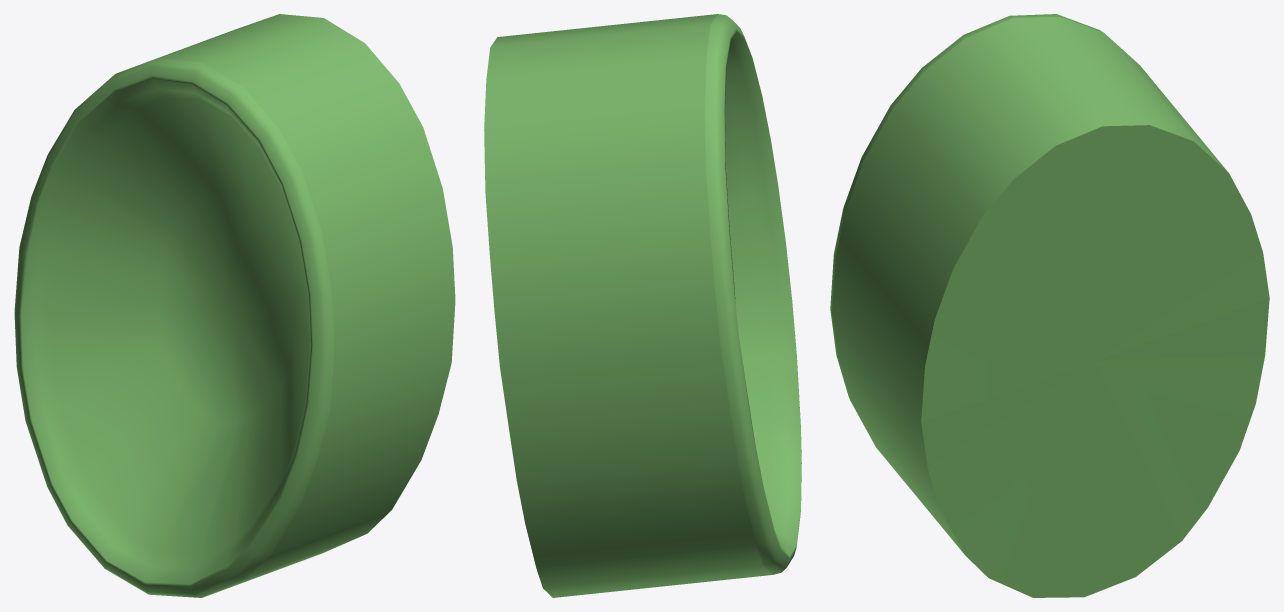
Rendered from BL5_8shapes_Oval_Classic_Metal.001 3.glb.
The picture shows the model from 3 angles, left to right: view 1: azimuth 30°, elevation 25°; view 2: azimuth 150°, elevation 25°; view 3: azimuth 270°, elevation 25°; orthographic projection. The views are drawn at different scales.
Parts seen in each view (by area): view 1: BL5_8shapes_Oval_Classic_Metal.001; view 2: BL5_8shapes_Oval_Classic_Metal.001; view 3: BL5_8shapes_Oval_Classic_Metal.001.
Part boxes in pixels (x1,y1,x2,y2): BL5_8shapes_Oval_Classic_Metal.001: (14,14,455,597); BL5_8shapes_Oval_Classic_Metal.001: (484,14,801,597); BL5_8shapes_Oval_Classic_Metal.001: (830,14,1269,597).
Bounding box in the file's own units: 0.3967 × 0.6357 × 0.4795.
